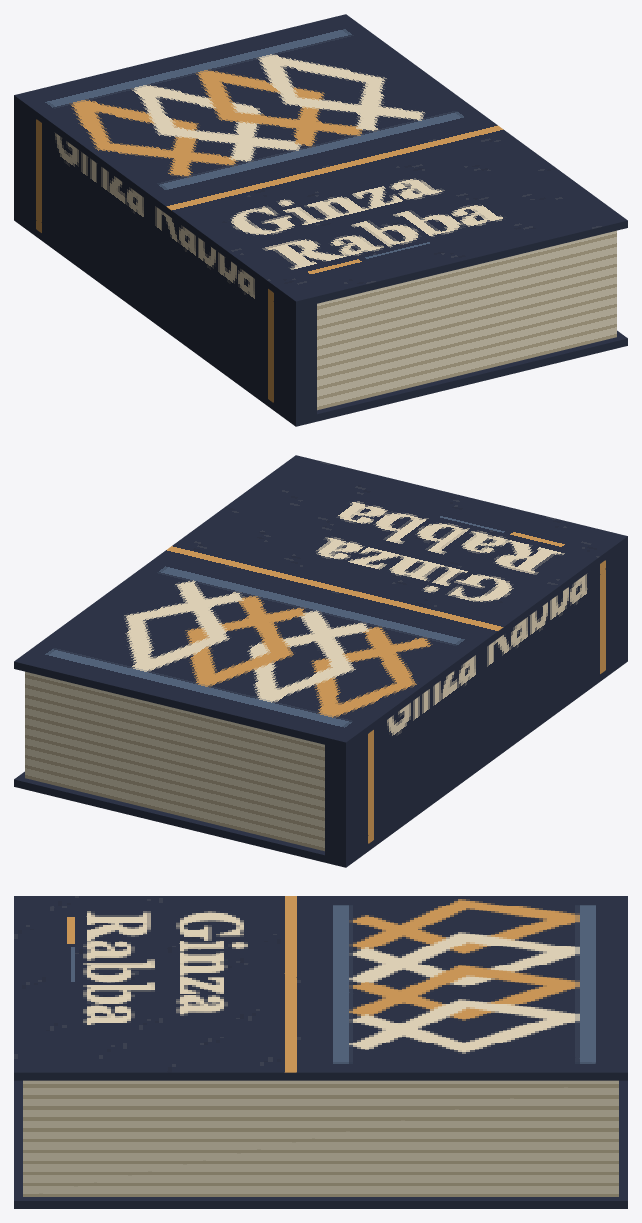
File: holybook_ginza.glb
The picture shows the model from 3 angles, top to bottom: view 1: azimuth 30°, elevation 25°; view 2: azimuth 150°, elevation 25°; view 3: azimuth 270°, elevation 25°; orthographic projection. The views are drawn at different scales.
Visible parts, largest first — view 1: block_front cover, block_spine, block_page block, block_back cover; view 2: block_front cover, block_spine, block_page block, block_back cover; view 3: block_front cover, block_page block, block_back cover.
Part boxes in pixels (x1,y1,x2,y2): block_front cover: [14, 14, 627, 308]; block_spine: [14, 103, 316, 419]; block_page block: [317, 230, 616, 410]; block_back cover: [14, 213, 627, 426]; block_front cover: [14, 455, 627, 749]; block_spine: [325, 544, 627, 860]; block_page block: [25, 671, 324, 851]; block_back cover: [14, 654, 627, 867]; block_front cover: [14, 896, 627, 1080]; block_page block: [23, 1080, 618, 1196]; block_back cover: [14, 1080, 627, 1208].
Bounding box in the file's own units: 0.1414 × 0.051 × 0.208.
Materials: 1 (1 with a texture image).
